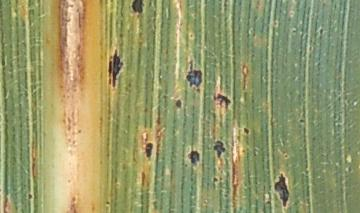tarspot: (273, 172, 290, 208), (107, 48, 123, 86), (185, 60, 202, 88), (214, 91, 231, 108), (213, 140, 225, 157), (130, 1, 144, 14), (188, 149, 199, 165), (145, 141, 153, 159), (240, 125, 250, 136), (175, 98, 182, 109), (298, 116, 307, 124), (104, 198, 112, 206), (211, 174, 218, 183), (318, 26, 324, 34), (27, 192, 33, 200), (283, 151, 289, 159)
